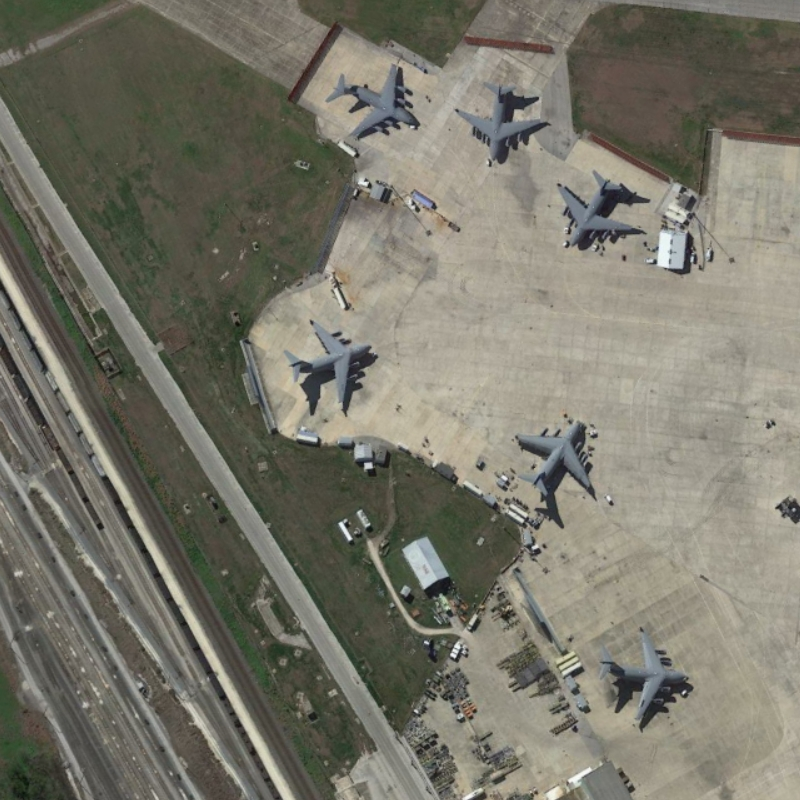A3: (589, 618, 693, 736), (277, 307, 376, 414), (549, 166, 653, 255), (321, 55, 422, 144), (505, 410, 598, 505), (453, 75, 548, 166)
